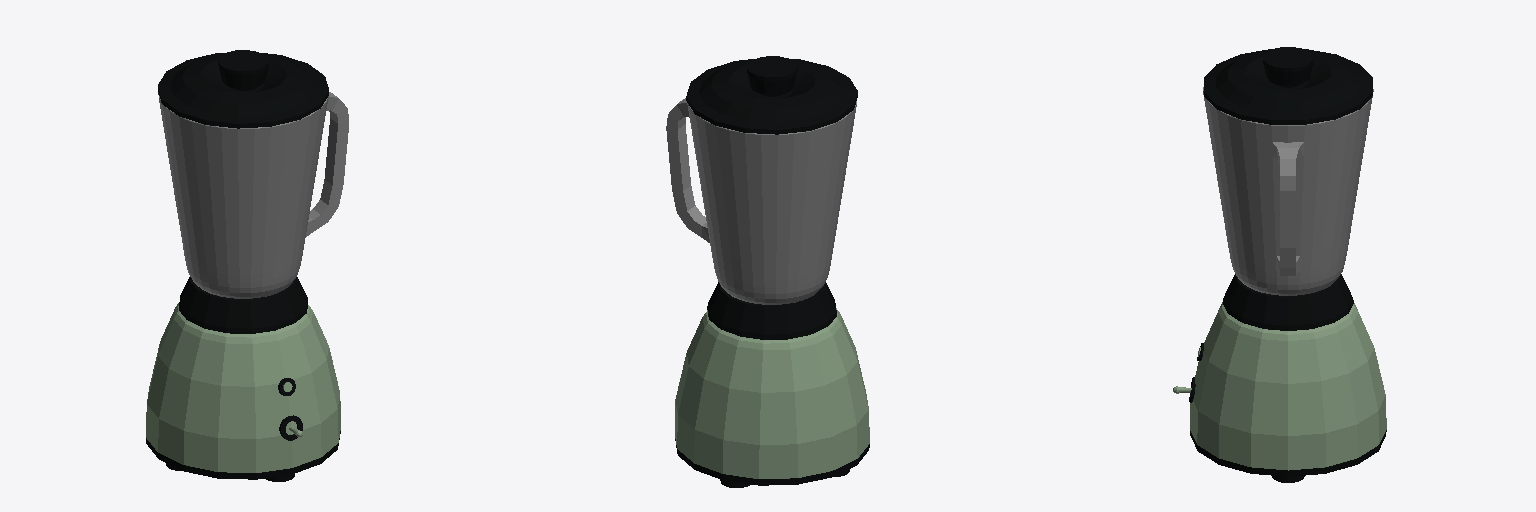
Rendered from blender.obj.
3 views of the same model, side by side, from view 1: azimuth 30°, elevation 25°; view 2: azimuth 150°, elevation 25°; view 3: azimuth 270°, elevation 25° (orthographic).
Visible parts, largest first — view 1: Blender_Untitled; view 2: Blender_Untitled; view 3: Blender_Untitled.
Boxes of the visible parts, box(x1,y1,x2,y2) form: Blender_Untitled: box(146, 50, 348, 481); Blender_Untitled: box(666, 56, 869, 487); Blender_Untitled: box(1173, 47, 1386, 482).
Size of the model in its own units: 20.55 by 40.73 by 20.28.